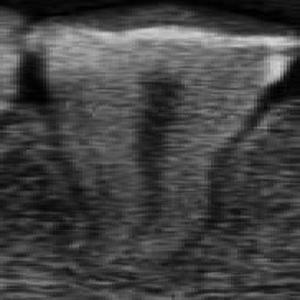tooth: (26, 5, 298, 260)
